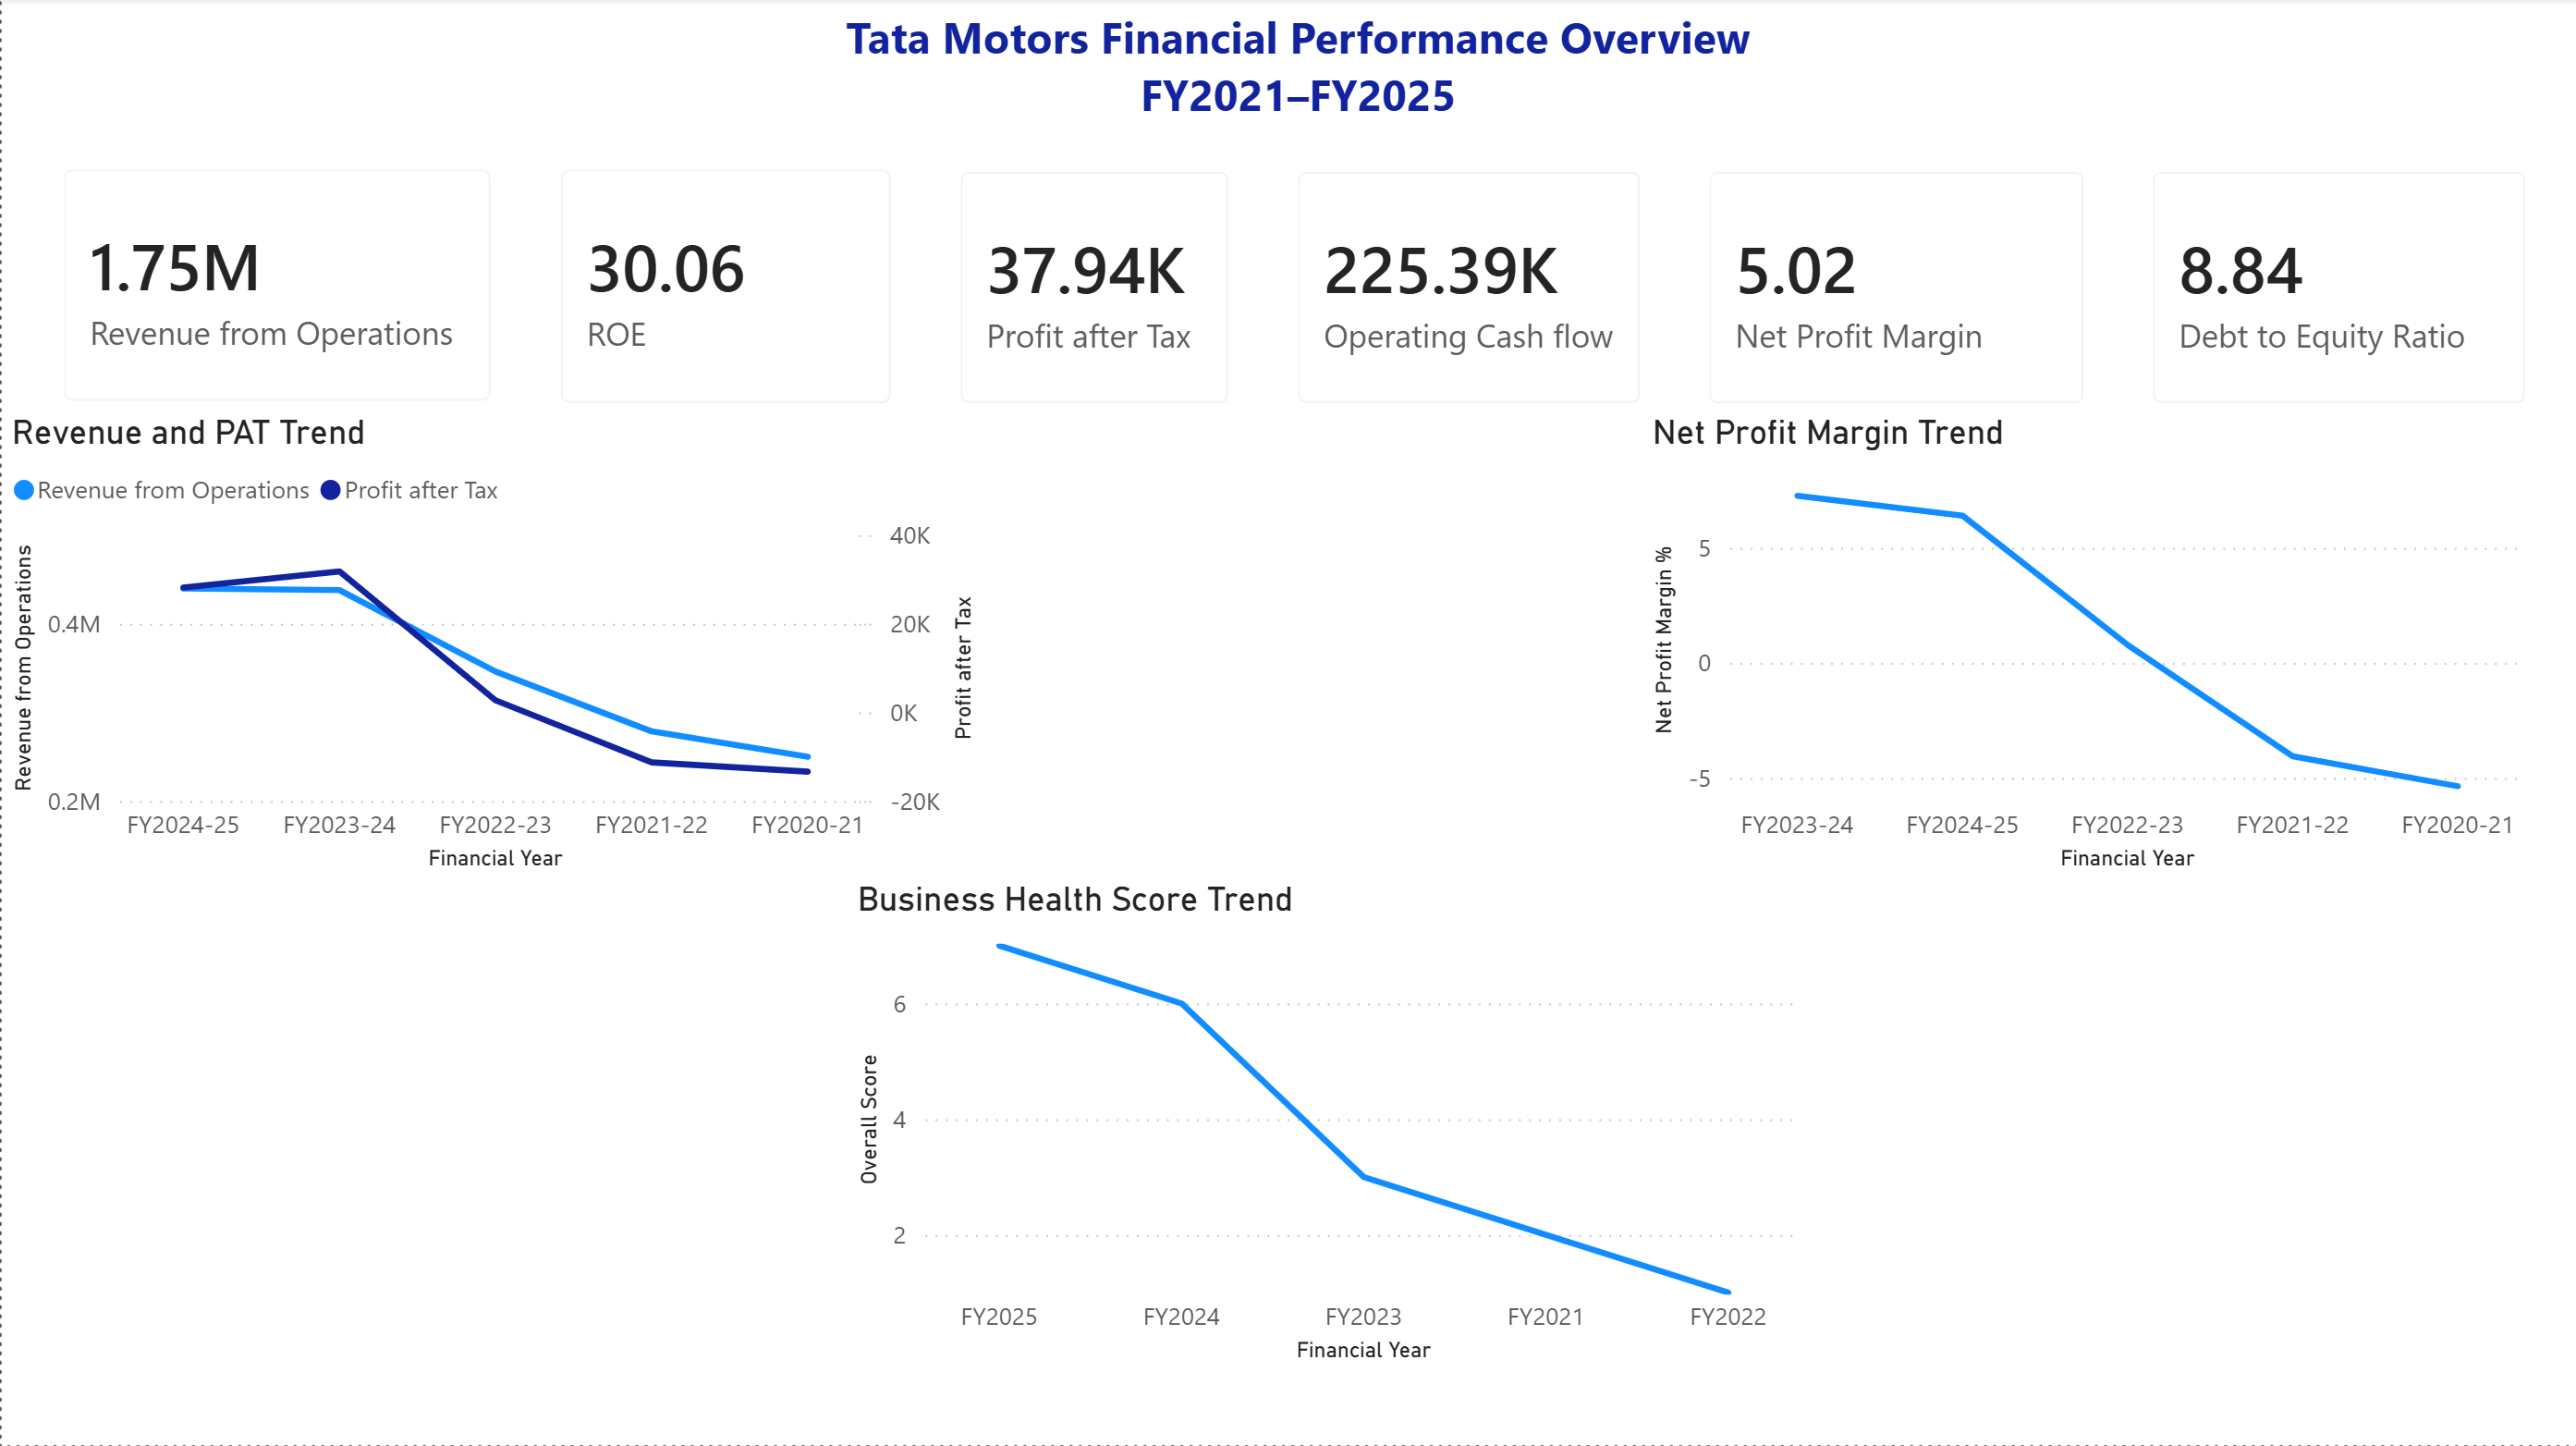

This screenshot's page, from the dashboard's own definition file:
{"tool":"powerbi","page":{"name":"Executive Overview","canvas":[1280,720],"ordinal":0},"visuals":[{"type":"textbox","box":[9.6,0,1270.7,70],"z":0},{"type":"cardVisual","fields":{"Data":["Sum(Income Statement.total_revenue_from_operations)"]},"box":[13.7,68.6,247,149.6],"z":1000},{"type":"cardVisual","fields":{"Data":["Sum(Cash Flow Statement.profit_for_year)"]},"box":[459.7,70,167.4,149.6],"z":2000},{"type":"cardVisual","fields":{"Data":["Sum(Financial Ratios.net_profit_margin_pct)"]},"box":[831.6,70,220.9,149.6],"z":3000},{"type":"cardVisual","fields":{"Data":["Sum(Financial Ratios.return_on_equity_pct)"]},"box":[260.7,68.6,199,150.9],"z":4000},{"type":"cardVisual","fields":{"Data":["Sum(Cash Flow Statement.cash_generated_from_operations)"]},"box":[627.1,70,204.5,149.6],"z":5000},{"type":"cardVisual","fields":{"Data":["Sum(Financial Ratios.debt_to_equity_ratio)"]},"box":[1052.5,70,219.6,149.6],"z":6000},{"type":"lineChart","title":"Revenue and PAT Trend","fields":{"Category":["Balance Sheet.financial_year"],"Y":["Sum(Financial Ratios.revenue_from_operations_cr)"],"Y2":["Sum(Financial Ratios.profit_after_tax_cr)"]},"box":[0,207.2,488.5,231.9],"z":7000},{"type":"lineChart","title":"Net Profit Margin Trend","fields":{"Category":["Financial Ratios.financial_year"],"Y":["Sum(Financial Ratios.net_profit_margin_pct)"]},"box":[815.1,207.2,446,231.9],"z":8000},{"type":"lineChart","title":"Business Health Score Trend","fields":{"Category":["Income Statement.financial_year"],"Y":["Sum(Business Health Scorecard.overall_score)"]},"box":[419.9,439.1,478.9,244.3],"z":9000}]}

Visuals, with their boxes in screenshot pixels (x1, y1, x2, y2), scaled from the page's 1280x720 canvas onto the 2576x1446 screenshot:
textbox: <region>19, 0, 2575, 141</region>
cardVisual - Sum(Income Statement.total_revenue_from_operations): <region>28, 138, 525, 438</region>
cardVisual - Sum(Cash Flow Statement.profit_for_year): <region>925, 141, 1262, 441</region>
cardVisual - Sum(Financial Ratios.net_profit_margin_pct): <region>1674, 141, 2118, 441</region>
cardVisual - Sum(Financial Ratios.return_on_equity_pct): <region>525, 138, 925, 441</region>
cardVisual - Sum(Cash Flow Statement.cash_generated_from_operations): <region>1262, 141, 1674, 441</region>
cardVisual - Sum(Financial Ratios.debt_to_equity_ratio): <region>2118, 141, 2560, 441</region>
"Revenue and PAT Trend" lineChart: <region>0, 416, 983, 882</region>
"Net Profit Margin Trend" lineChart: <region>1641, 416, 2538, 882</region>
"Business Health Score Trend" lineChart: <region>845, 882, 1809, 1372</region>
